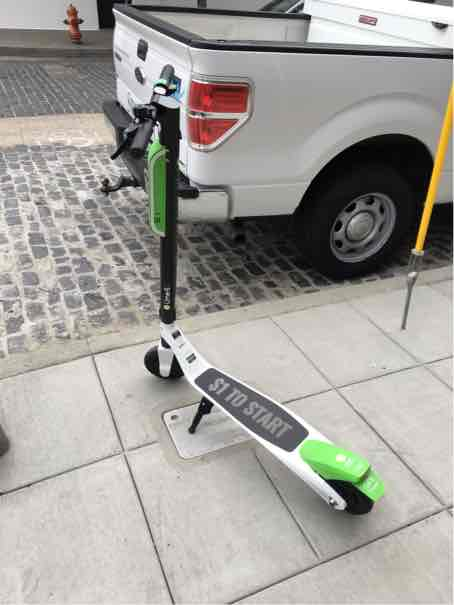scooter: (107, 60, 389, 523)
